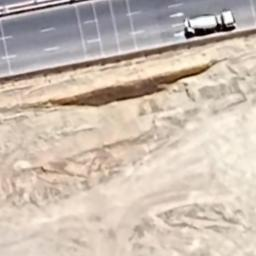others: (180, 8, 240, 38)
